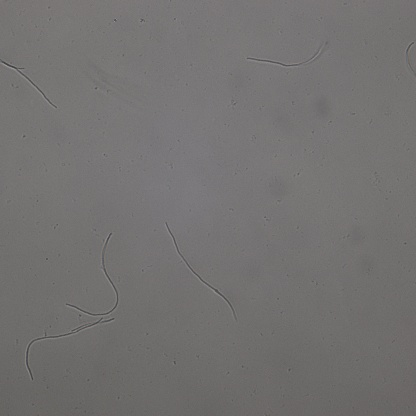Sensitive: (166, 224, 236, 319), (24, 318, 114, 380), (66, 233, 120, 316), (1, 60, 57, 108), (246, 41, 327, 67)
